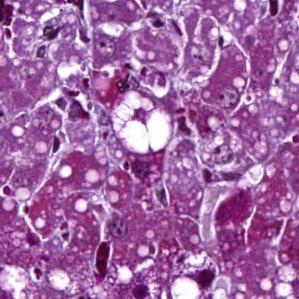ballooning: (109, 88, 174, 155), (166, 252, 220, 297)
